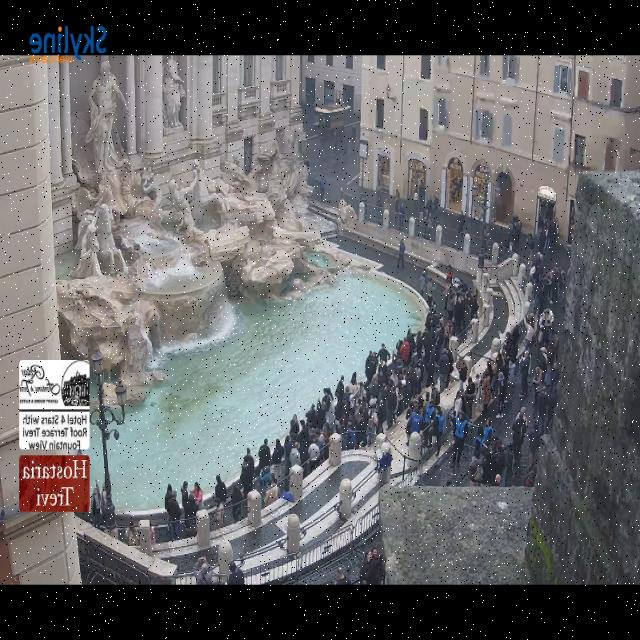person: (360, 337, 423, 404), (321, 373, 366, 434), (473, 419, 513, 474), (296, 404, 347, 445), (440, 285, 469, 348), (348, 385, 385, 434), (356, 352, 387, 405), (444, 288, 463, 371), (406, 332, 430, 396), (295, 403, 328, 445), (294, 400, 327, 441), (316, 416, 345, 462), (430, 303, 451, 364), (538, 271, 553, 352), (492, 332, 514, 385), (292, 410, 324, 443), (418, 391, 436, 449), (458, 285, 477, 336), (372, 351, 395, 391), (413, 198, 435, 239), (497, 332, 514, 385), (498, 332, 514, 387), (451, 413, 467, 468), (404, 359, 424, 402), (496, 332, 512, 385), (386, 340, 402, 390), (412, 185, 434, 221), (524, 305, 540, 354), (284, 438, 303, 478), (430, 304, 443, 362), (421, 400, 436, 450), (342, 373, 358, 419), (539, 340, 554, 389), (343, 372, 360, 415), (405, 358, 424, 396), (463, 376, 479, 421), (512, 408, 526, 458), (501, 325, 519, 363), (380, 384, 395, 429), (166, 492, 180, 539), (318, 390, 335, 428), (420, 199, 436, 239), (240, 449, 253, 497), (537, 346, 552, 387), (366, 549, 383, 584), (536, 325, 547, 378), (482, 418, 498, 454), (545, 268, 561, 304), (364, 352, 377, 396), (496, 440, 508, 487), (316, 424, 330, 463), (184, 493, 197, 535), (367, 353, 379, 398), (355, 403, 367, 448), (535, 389, 546, 436), (408, 331, 423, 365), (481, 451, 496, 485), (528, 252, 542, 288), (344, 396, 362, 424), (366, 398, 376, 447), (193, 557, 211, 584), (529, 424, 540, 468), (384, 385, 395, 429), (538, 271, 551, 308), (486, 355, 496, 403), (491, 352, 501, 399), (546, 211, 558, 250), (434, 405, 443, 457), (271, 439, 283, 477), (396, 376, 407, 417), (408, 406, 423, 436), (405, 402, 415, 447), (453, 295, 465, 332), (332, 383, 343, 423), (532, 368, 543, 408), (89, 484, 99, 528), (227, 561, 245, 585), (438, 349, 448, 392), (231, 483, 242, 522), (464, 378, 475, 416), (481, 419, 492, 457), (510, 212, 520, 252), (335, 418, 347, 451), (548, 268, 559, 304), (359, 551, 371, 584), (405, 330, 419, 358), (264, 477, 277, 507), (472, 426, 483, 461), (444, 286, 455, 321), (297, 442, 308, 477), (444, 340, 452, 388), (496, 371, 504, 418), (509, 325, 519, 362), (546, 209, 555, 250), (283, 436, 292, 477), (456, 358, 467, 391), (421, 330, 432, 363), (258, 439, 270, 469), (524, 316, 534, 352), (481, 372, 490, 412), (422, 198, 431, 236), (423, 397, 435, 425), (125, 520, 138, 545), (468, 460, 481, 485), (376, 398, 385, 434), (550, 268, 559, 304), (190, 483, 202, 510), (214, 476, 226, 503), (258, 464, 270, 491), (542, 309, 553, 338), (308, 442, 319, 471), (335, 376, 343, 415), (550, 361, 560, 392), (424, 357, 434, 388), (505, 355, 515, 385), (211, 504, 223, 529), (480, 228, 489, 261), (535, 250, 543, 287), (428, 384, 439, 410), (377, 197, 390, 219), (549, 217, 558, 248), (212, 503, 223, 528), (558, 270, 565, 309), (376, 343, 389, 364), (541, 203, 554, 224), (540, 275, 549, 305), (468, 293, 477, 322), (354, 382, 365, 405), (399, 339, 409, 364), (480, 228, 488, 259), (346, 423, 355, 450), (425, 277, 433, 307), (289, 443, 299, 467), (335, 568, 350, 584), (396, 238, 404, 268), (412, 184, 419, 218), (413, 184, 420, 218), (526, 233, 534, 262), (453, 392, 462, 417), (551, 335, 559, 363), (100, 483, 105, 527), (322, 388, 332, 410), (417, 180, 424, 211), (537, 223, 544, 252), (180, 482, 187, 511), (457, 215, 463, 248), (164, 484, 171, 512), (360, 193, 367, 221), (289, 415, 299, 434), (305, 405, 315, 424), (397, 203, 404, 230), (319, 175, 326, 201), (164, 484, 171, 510), (524, 469, 534, 487), (544, 223, 550, 253), (389, 210, 398, 228), (419, 271, 425, 298), (432, 195, 438, 221), (445, 264, 452, 284), (378, 197, 388, 210), (491, 473, 500, 487), (461, 291, 471, 303), (394, 190, 399, 214), (334, 132, 339, 155), (101, 483, 105, 509), (342, 136, 347, 156), (68, 449, 82, 456), (351, 126, 355, 150), (150, 525, 155, 544), (304, 159, 309, 174), (445, 480, 451, 487), (384, 198, 387, 209)
